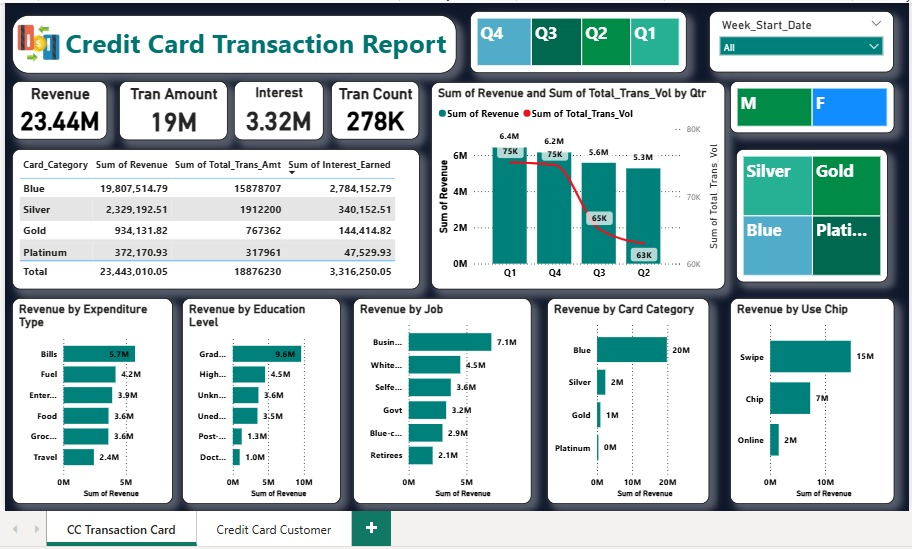

Layout of this report page (visuals, bound fields, positions):
{"tool":"powerbi","page":{"name":"CC Transaction Card","canvas":[1280,720],"ordinal":0},"visuals":[{"type":"textbox","box":[10.1,16.8,629.9,82.5],"z":0},{"type":"card","title":"Revenue","fields":{"Values":["Sum(credit_card.Revenue)"]},"box":[10.2,110.5,135.3,82.9],"z":1000},{"type":"card","title":"Interest","fields":{"Values":["Sum(credit_card.Interest_Earned)"]},"box":[324.4,110.5,126.5,84.4],"z":2000},{"type":"card","title":"Tran Amount","fields":{"Values":["Sum(credit_card.Total_Trans_Amt)"]},"box":[161.5,110.5,154.2,84.4],"z":3000},{"type":"card","title":"Tran Count","fields":{"Values":["Sum(credit_card.Total_Trans_Vol)"]},"box":[462.5,110.5,125.1,82.9],"z":4000},{"type":"tableEx","fields":{"Values":["credit_card.Card_Category","Sum(credit_card.Revenue)","Sum(credit_card.Total_Trans_Amt)","Sum(credit_card.Interest_Earned)"]},"box":[10.1,207.2,577.7,198.7],"z":5000},{"type":"lineClusteredColumnComboChart","fields":{"Category":["credit_card.Qtr"],"Y":["Sum(credit_card.Revenue)"],"Y2":["Sum(credit_card.Total_Trans_Vol)"]},"box":[603.6,112,417.5,293.8],"z":6000},{"type":"slicer","fields":{"Values":["credit_card.Week_Start_Date"]},"box":[997.8,11.6,261.8,87.3],"z":7000},{"type":"treemap","fields":{"Group":["credit_card.Card_Category"],"Values":["Avg(credit_card.Client_Num)"]},"box":[1035.6,206.5,215.3,189.1],"z":8000},{"type":"treemap","fields":{"Group":["credit_card.Qtr"],"Values":["Avg(credit_card.Client_Num)"]},"box":[658.5,11.8,306.5,87.6],"z":9000},{"type":"treemap","fields":{"Group":["customer.Gender"],"Values":["Avg(credit_card.Client_Num)"]},"box":[1026.9,110.5,232.7,74.2],"z":10000},{"type":"barChart","title":" Revenue by Expenditure Type","fields":{"Category":["credit_card.Exp Type"],"Y":["Sum(credit_card.Revenue)"]},"box":[10.2,417.5,228.4,292.4],"z":11000},{"type":"barChart","title":"Revenue by Education Level","fields":{"Y":["Sum(credit_card.Revenue)"],"Category":["customer.Education_Level"]},"box":[250.2,417.5,225.5,292.4],"z":12000},{"type":"barChart","title":"Revenue by Job","fields":{"Y":["Sum(credit_card.Revenue)"],"Category":["customer.Customer_Job"]},"box":[493.1,417.5,253.1,292.4],"z":13000},{"type":"barChart","title":"Revenue by Card Category","fields":{"Y":["Sum(credit_card.Revenue)"],"Category":["credit_card.Card_Category"]},"box":[768,417.5,229.8,292.4],"z":14000},{"type":"barChart","title":"Revenue by Use Chip","fields":{"Y":["Sum(credit_card.Revenue)"],"Category":["credit_card.Use Chip"]},"box":[1026.9,417.5,232.7,292.4],"z":15000},{"type":"image","box":[17,15.6,60.9,83.6],"z":16000}]}

Visuals, with their boxes in screenshot pixels (x1, y1, x2, y2):
textbox: 12 14 454 72
"Revenue" card: 12 80 107 138
"Interest" card: 233 80 322 139
"Tran Amount" card: 118 80 227 139
"Tran Count" card: 330 80 418 138
tableEx - credit_card.Card_Category x Sum(credit_card.Revenue): 12 148 418 288
lineClusteredColumnComboChart - credit_card.Qtr x Sum(credit_card.Revenue): 429 81 722 288
slicer - credit_card.Week_Start_Date: 706 11 890 72
treemap - credit_card.Card_Category x Avg(credit_card.Client_Num): 732 147 884 280
treemap - credit_card.Qtr x Avg(credit_card.Client_Num): 467 11 683 72
treemap - customer.Gender x Avg(credit_card.Client_Num): 726 80 890 132
" Revenue by Expenditure Type" barChart: 12 296 172 501
"Revenue by Education Level" barChart: 181 296 339 501
"Revenue by Job" barChart: 351 296 529 501
"Revenue by Card Category" barChart: 544 296 706 501
"Revenue by Use Chip" barChart: 726 296 890 501
image: 17 13 59 72
